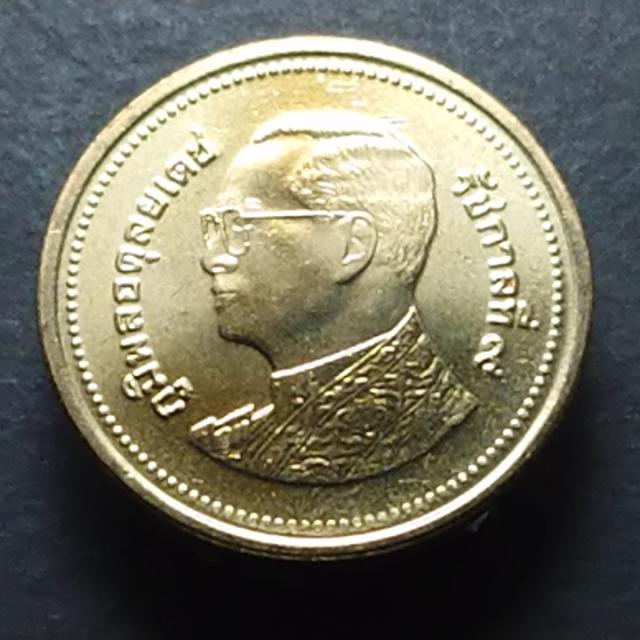2 Bath: (35, 32, 604, 564)
